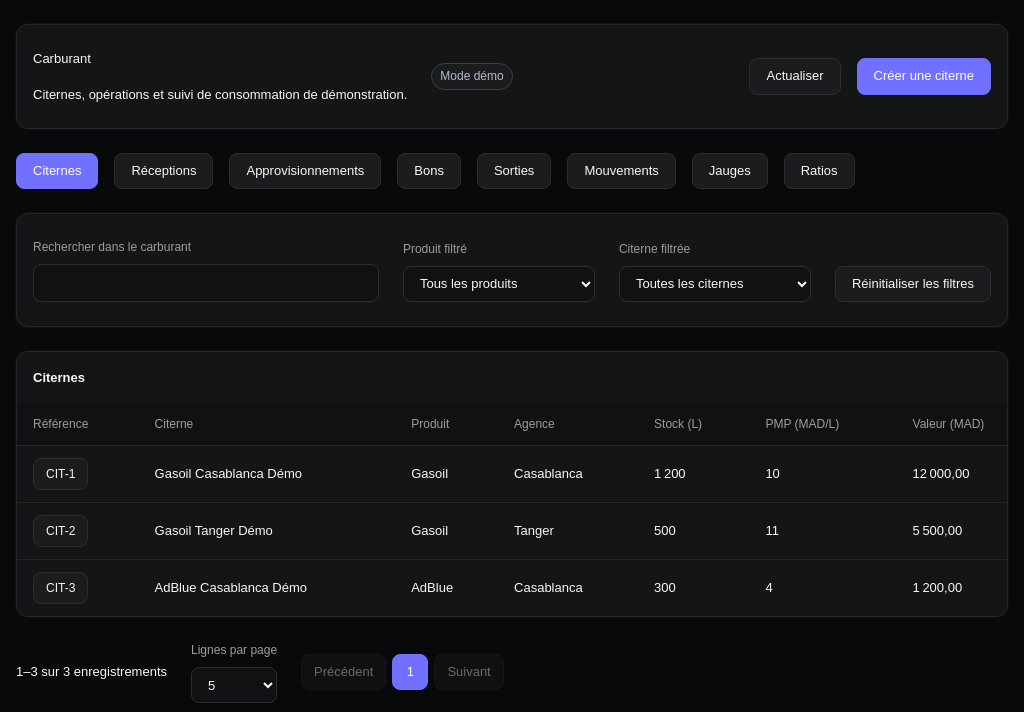
Test: Carburant › creates a tank and receives fuel with recalculated weighted price
Expected: the table "Citernes" is shown, top-left (17, 352), bottom-right (1007, 616)
Click the button "Créer une citerne": (924, 76) top-left (856, 58), bottom-right (991, 95)
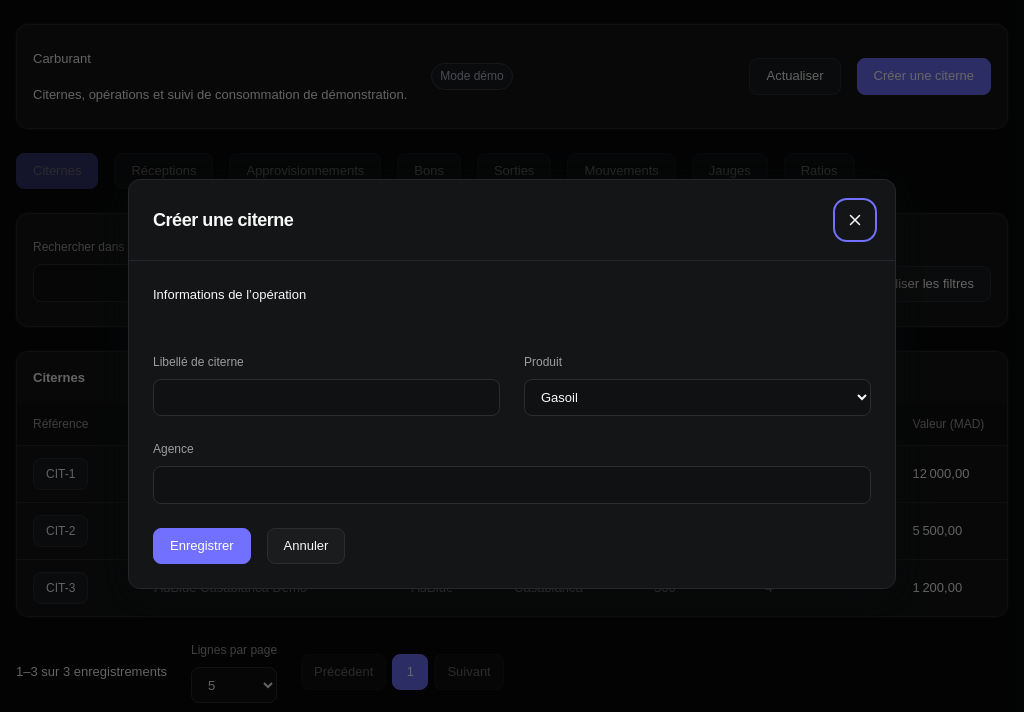
In the field labelled "Libellé de citerne": (326, 397) top-left (153, 379), bottom-right (500, 416), type "Citerne Test"
Click the button "Enregistrer": (202, 546) top-left (153, 528), bottom-right (251, 564)
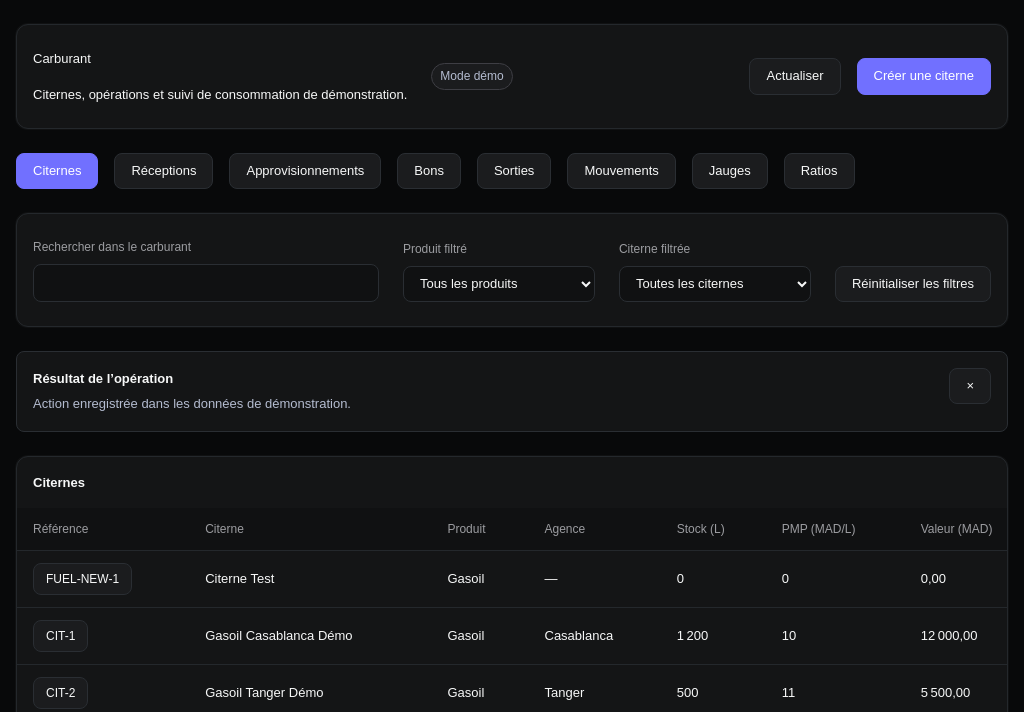
Result: the dialog is gone
Click the button "Réceptions": (164, 171) top-left (114, 153), bottom-right (213, 189)
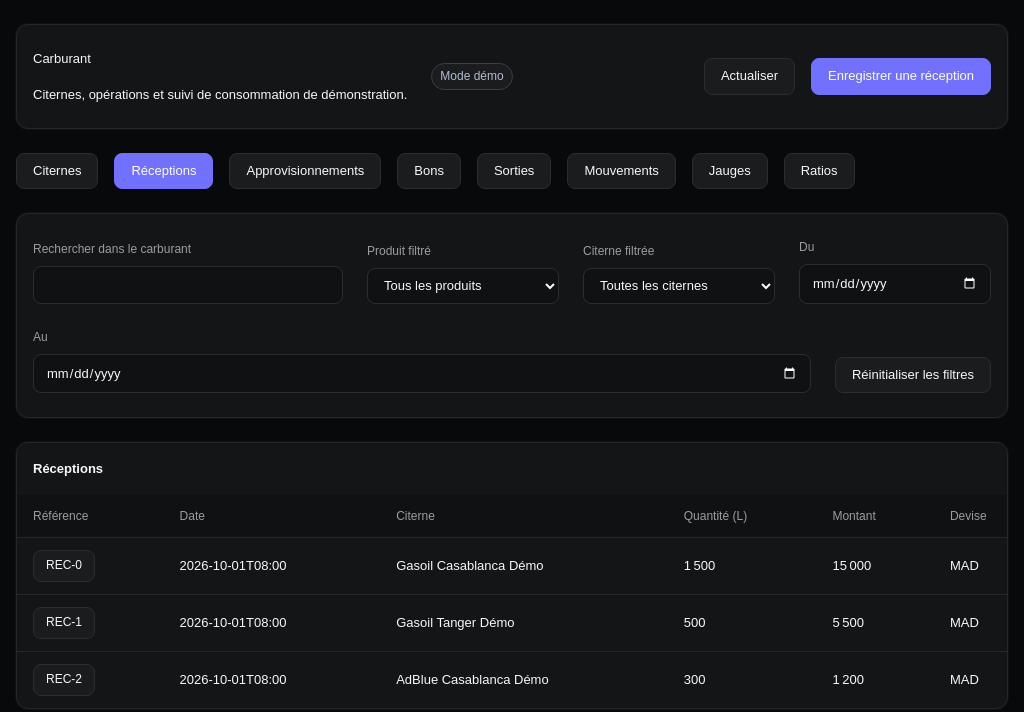
Click the button "Enregistrer une réception": (901, 76) top-left (811, 58), bottom-right (991, 95)
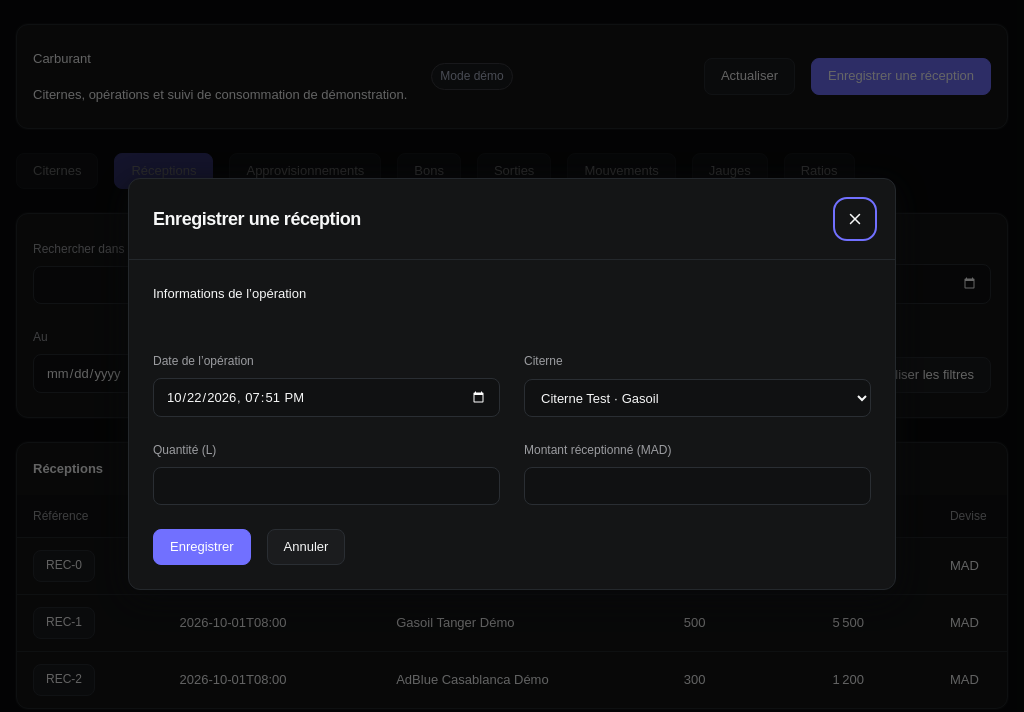
In the number field labelled "Quantité (L)": (326, 486) top-left (153, 467), bottom-right (500, 505), type "100"
In the number field labelled "Montant réceptionné (MAD)": (698, 486) top-left (524, 467), bottom-right (871, 505), type "1000"
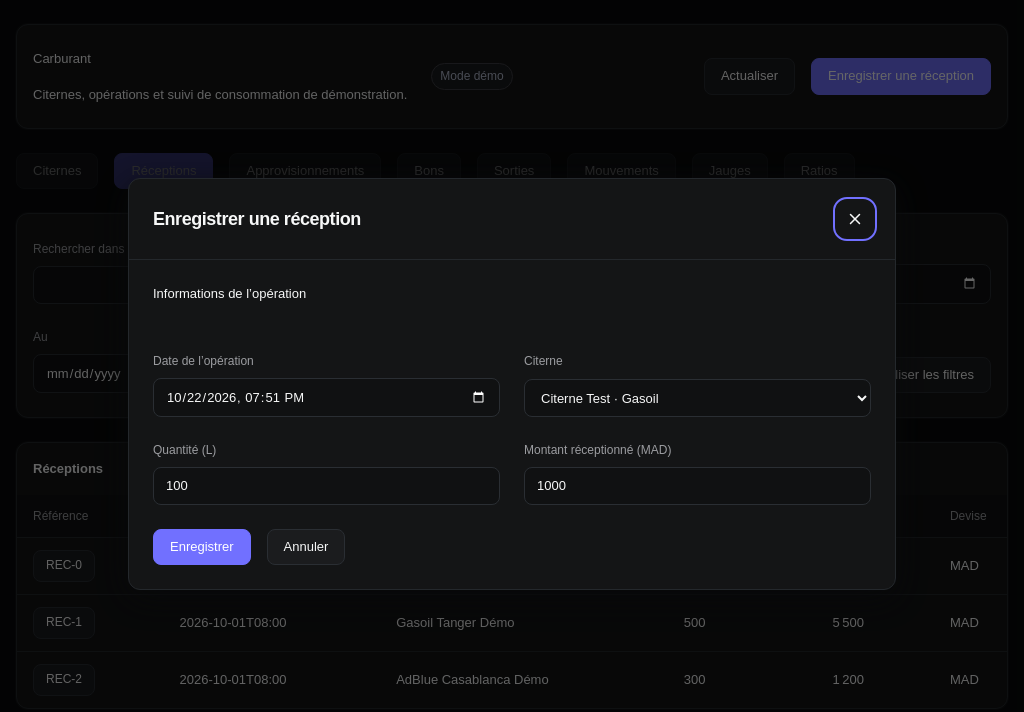
Click the button "Enregistrer": (202, 547) top-left (153, 529), bottom-right (251, 565)
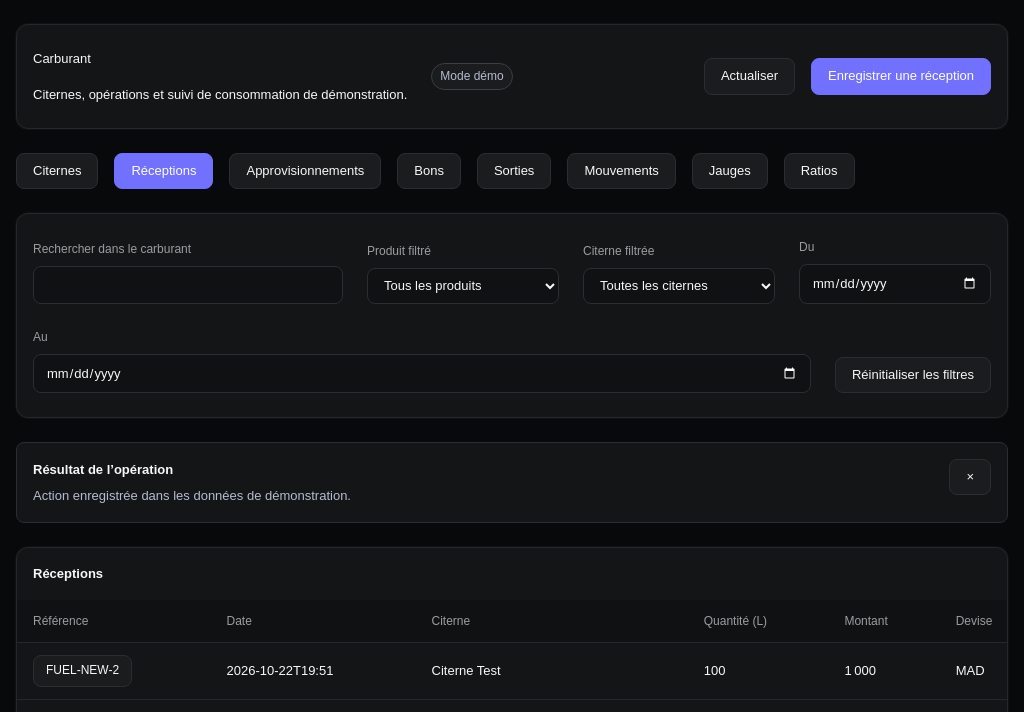
Result: the dialog is gone
